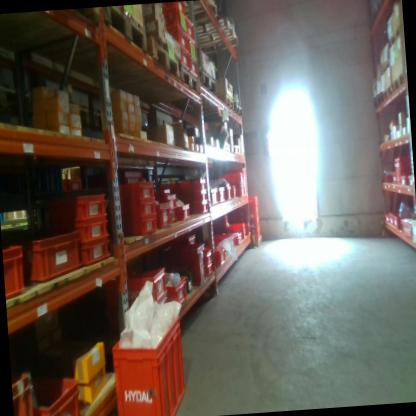pallet: (102, 4, 150, 58), (149, 31, 182, 85), (178, 62, 200, 96), (197, 69, 219, 94), (214, 92, 236, 117), (391, 68, 406, 95), (387, 25, 402, 48), (377, 58, 393, 79), (381, 85, 394, 108), (371, 92, 384, 109), (234, 103, 245, 120), (254, 234, 263, 247)
small_load_carrier: (107, 311, 190, 416), (19, 222, 84, 286), (34, 364, 83, 416), (32, 189, 108, 222), (122, 263, 171, 306), (168, 239, 206, 289), (3, 240, 27, 306), (11, 366, 40, 416), (74, 242, 115, 271), (72, 217, 111, 245), (157, 176, 209, 195), (118, 216, 157, 241), (115, 197, 159, 219), (115, 178, 158, 198), (167, 274, 190, 311), (160, 6, 187, 37), (196, 36, 240, 54), (162, 28, 189, 56), (393, 155, 412, 188), (229, 167, 248, 200), (214, 231, 244, 249), (154, 200, 171, 229), (211, 244, 229, 269), (393, 210, 412, 231), (180, 189, 206, 204), (159, 2, 186, 15), (178, 201, 193, 224), (400, 217, 415, 240), (187, 201, 208, 217), (224, 173, 244, 188), (187, 40, 199, 65), (178, 49, 191, 71), (209, 187, 221, 210), (165, 209, 179, 227), (219, 182, 229, 206), (164, 193, 178, 210), (188, 57, 198, 79), (226, 223, 247, 233), (187, 19, 196, 42), (224, 183, 233, 204), (202, 246, 213, 263), (236, 184, 247, 197), (205, 262, 215, 276), (399, 172, 408, 187), (230, 184, 237, 202), (249, 220, 260, 231), (250, 196, 258, 210), (250, 211, 260, 222), (239, 232, 247, 243), (251, 231, 260, 240)
